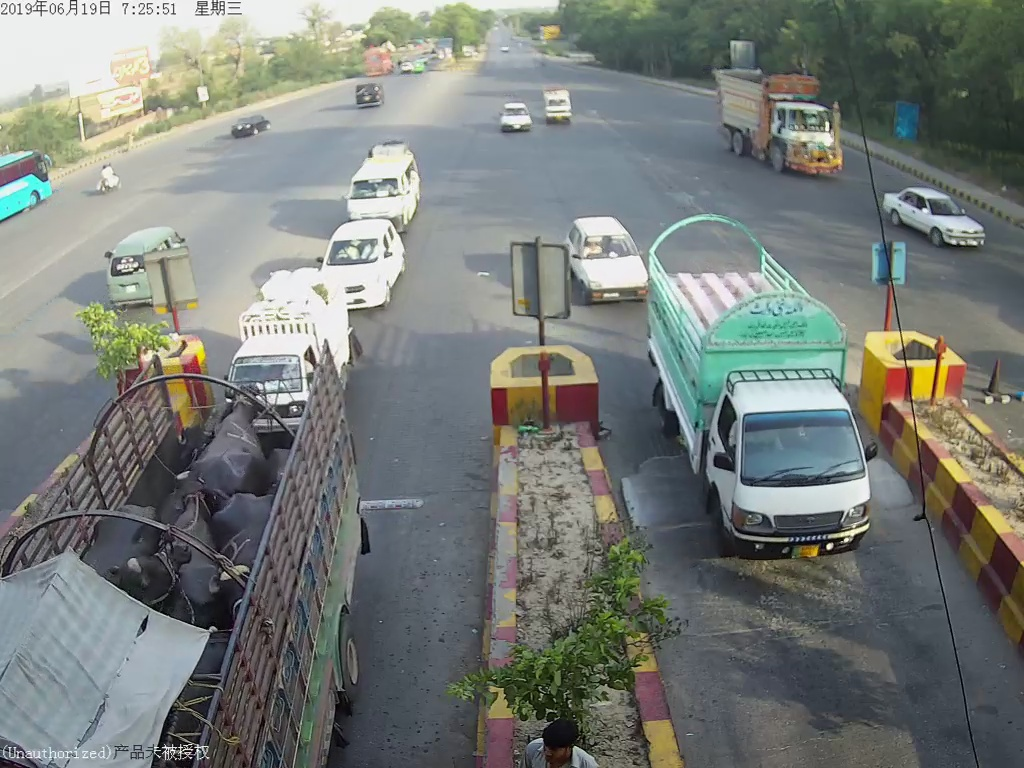Cat-1: (227, 290, 338, 402), (572, 214, 643, 307), (326, 224, 414, 298)
Cat-2: (653, 214, 886, 564)
